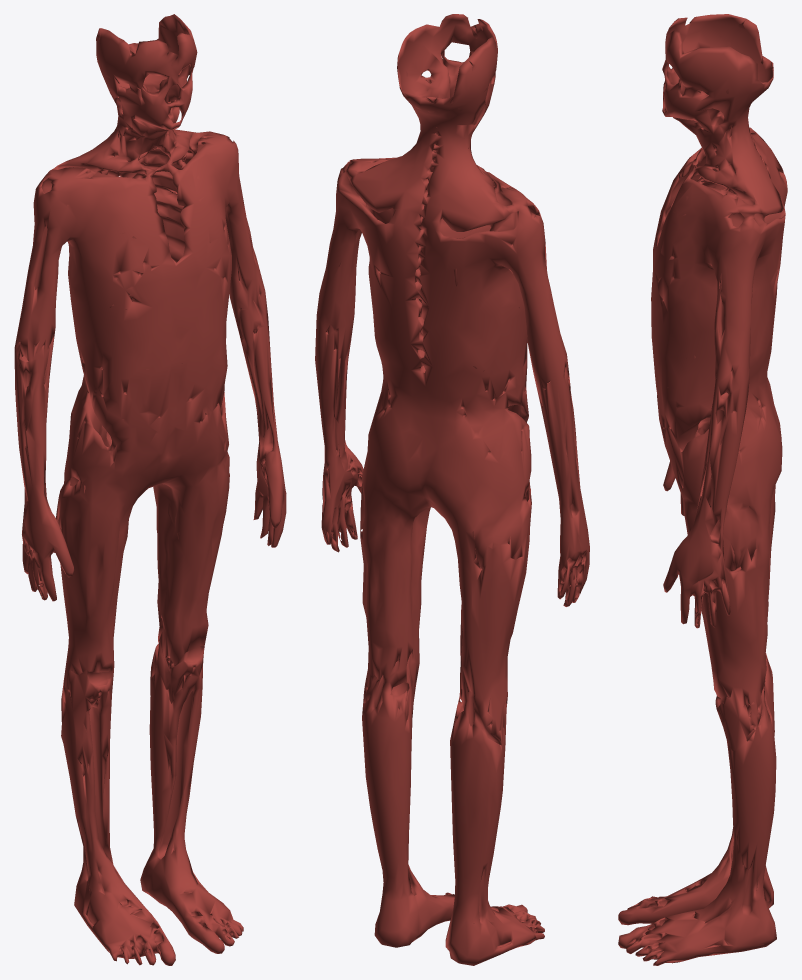
The model's file is pediatric_adolescent_female.muscular.LOD2.glb.
3 views of the same model, side by side, from view 1: azimuth 30°, elevation 25°; view 2: azimuth 150°, elevation 25°; view 3: azimuth 270°, elevation 25° (orthographic).
Visible parts, largest first — view 1: PEDIATRIC.ADOLESCENT.FEMALE.MUSCULAR.MUSCLE; view 2: PEDIATRIC.ADOLESCENT.FEMALE.MUSCULAR.MUSCLE; view 3: PEDIATRIC.ADOLESCENT.FEMALE.MUSCULAR.MUSCLE.
Part boxes in pixels (x1,y1,x2,y2): PEDIATRIC.ADOLESCENT.FEMALE.MUSCULAR.MUSCLE: (14, 14, 286, 965); PEDIATRIC.ADOLESCENT.FEMALE.MUSCULAR.MUSCLE: (315, 14, 589, 965); PEDIATRIC.ADOLESCENT.FEMALE.MUSCULAR.MUSCLE: (618, 14, 787, 965).
Bounding box in the file's own units: 0.4581 × 1.58 × 0.2658.
